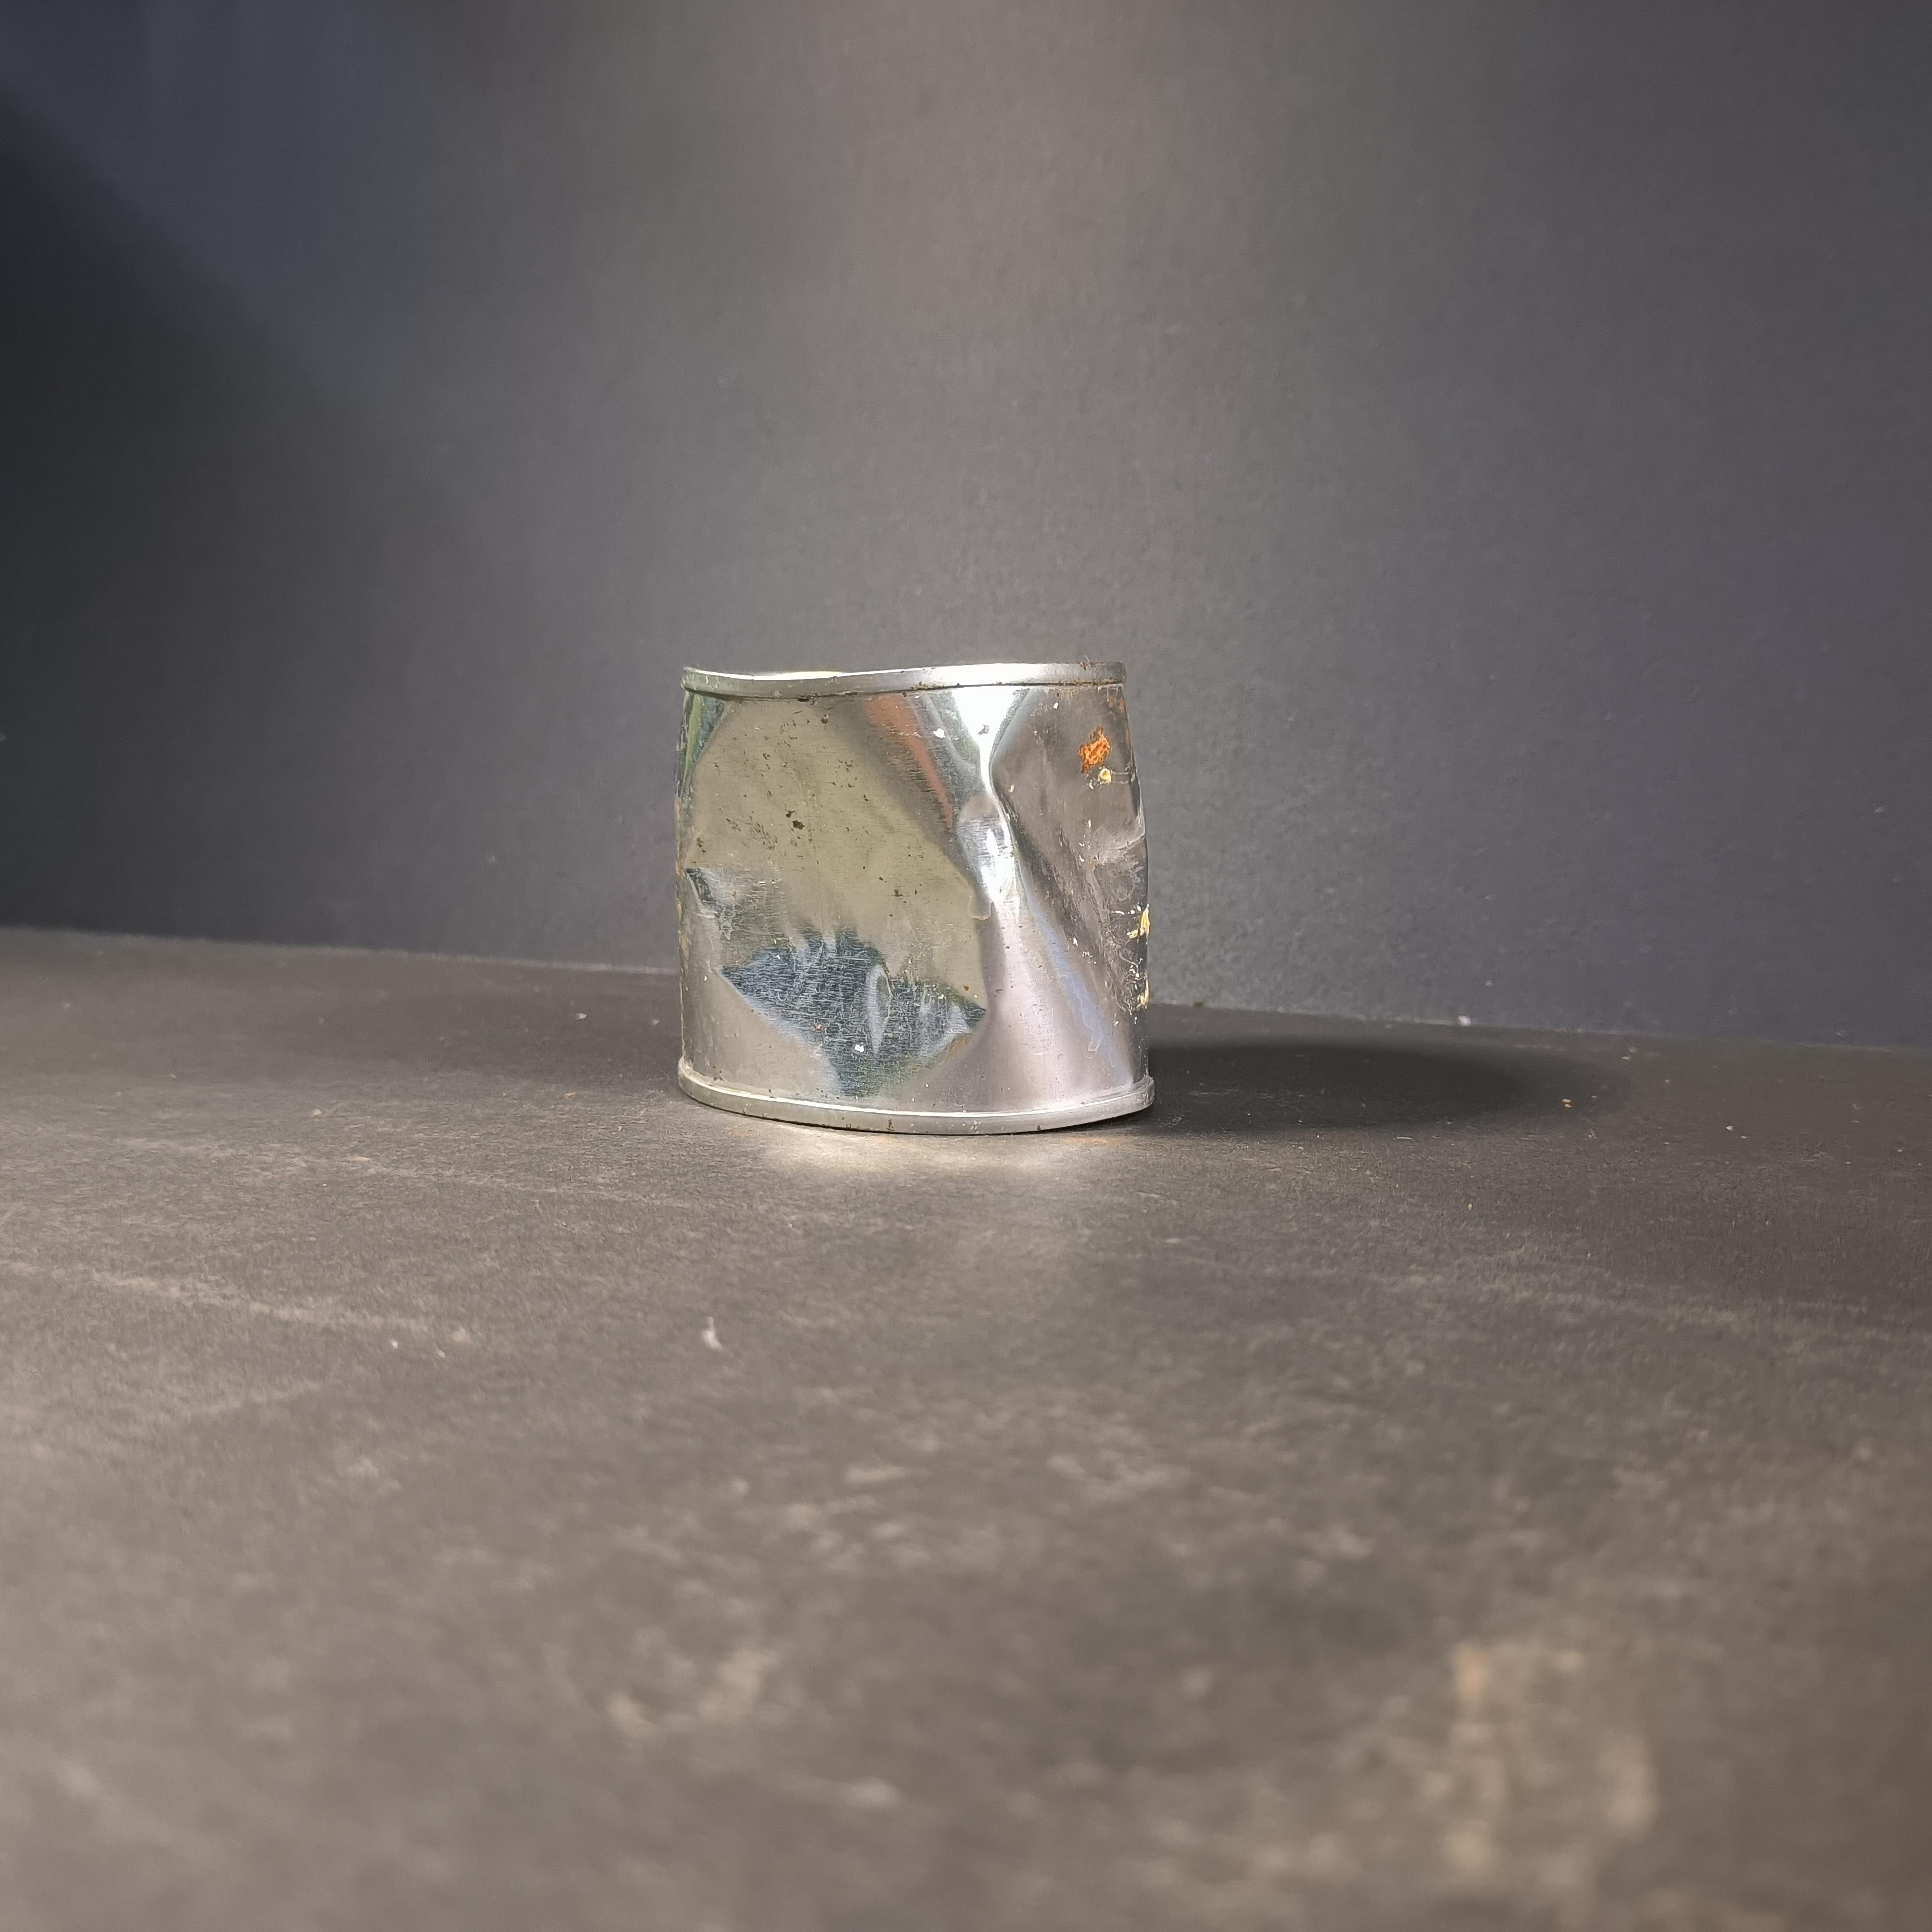Major Defect: (674, 660, 1157, 1138)
